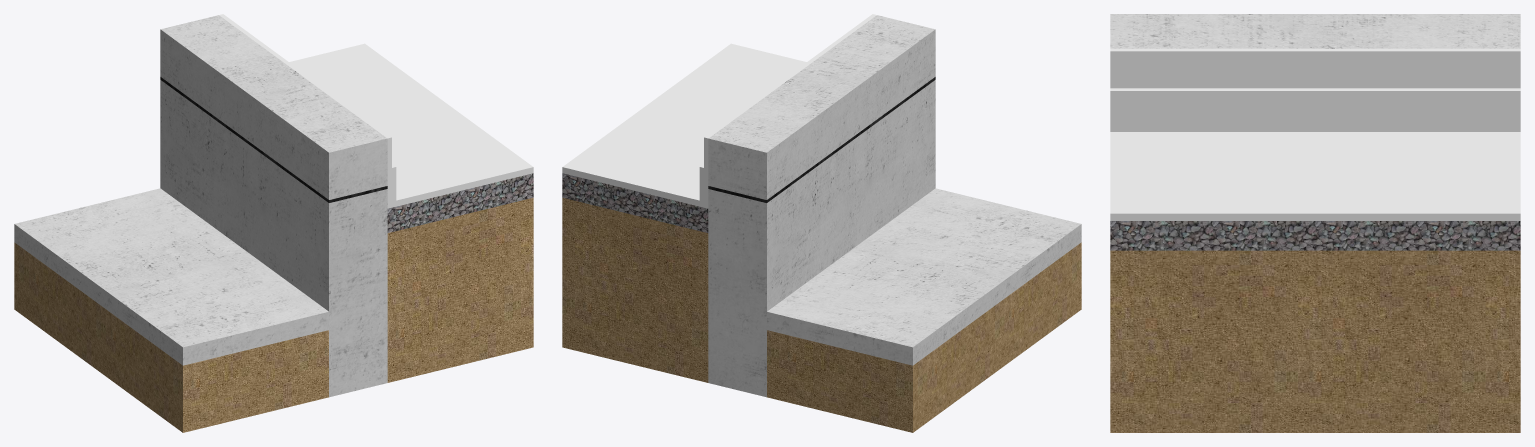
The model's file is damp-proof-b-v2.glb.
The picture shows the model from 3 angles, left to right: view 1: azimuth 30°, elevation 25°; view 2: azimuth 150°, elevation 25°; view 3: azimuth 270°, elevation 25°; orthographic projection. The views are drawn at different scales.
Visible parts, largest first — view 1: 地面垫层为透水材料; view 2: 地面垫层为透水材料; view 3: 地面垫层为透水材料.
Part boxes in pixels (x1,y1,x2,y2): 地面垫层为透水材料: [14, 14, 533, 432]; 地面垫层为透水材料: [562, 14, 1081, 432]; 地面垫层为透水材料: [1110, 14, 1520, 432].
Bounding box in the file's own units: 1.2 × 0.8 × 1.
5 materials, 4 textured.
